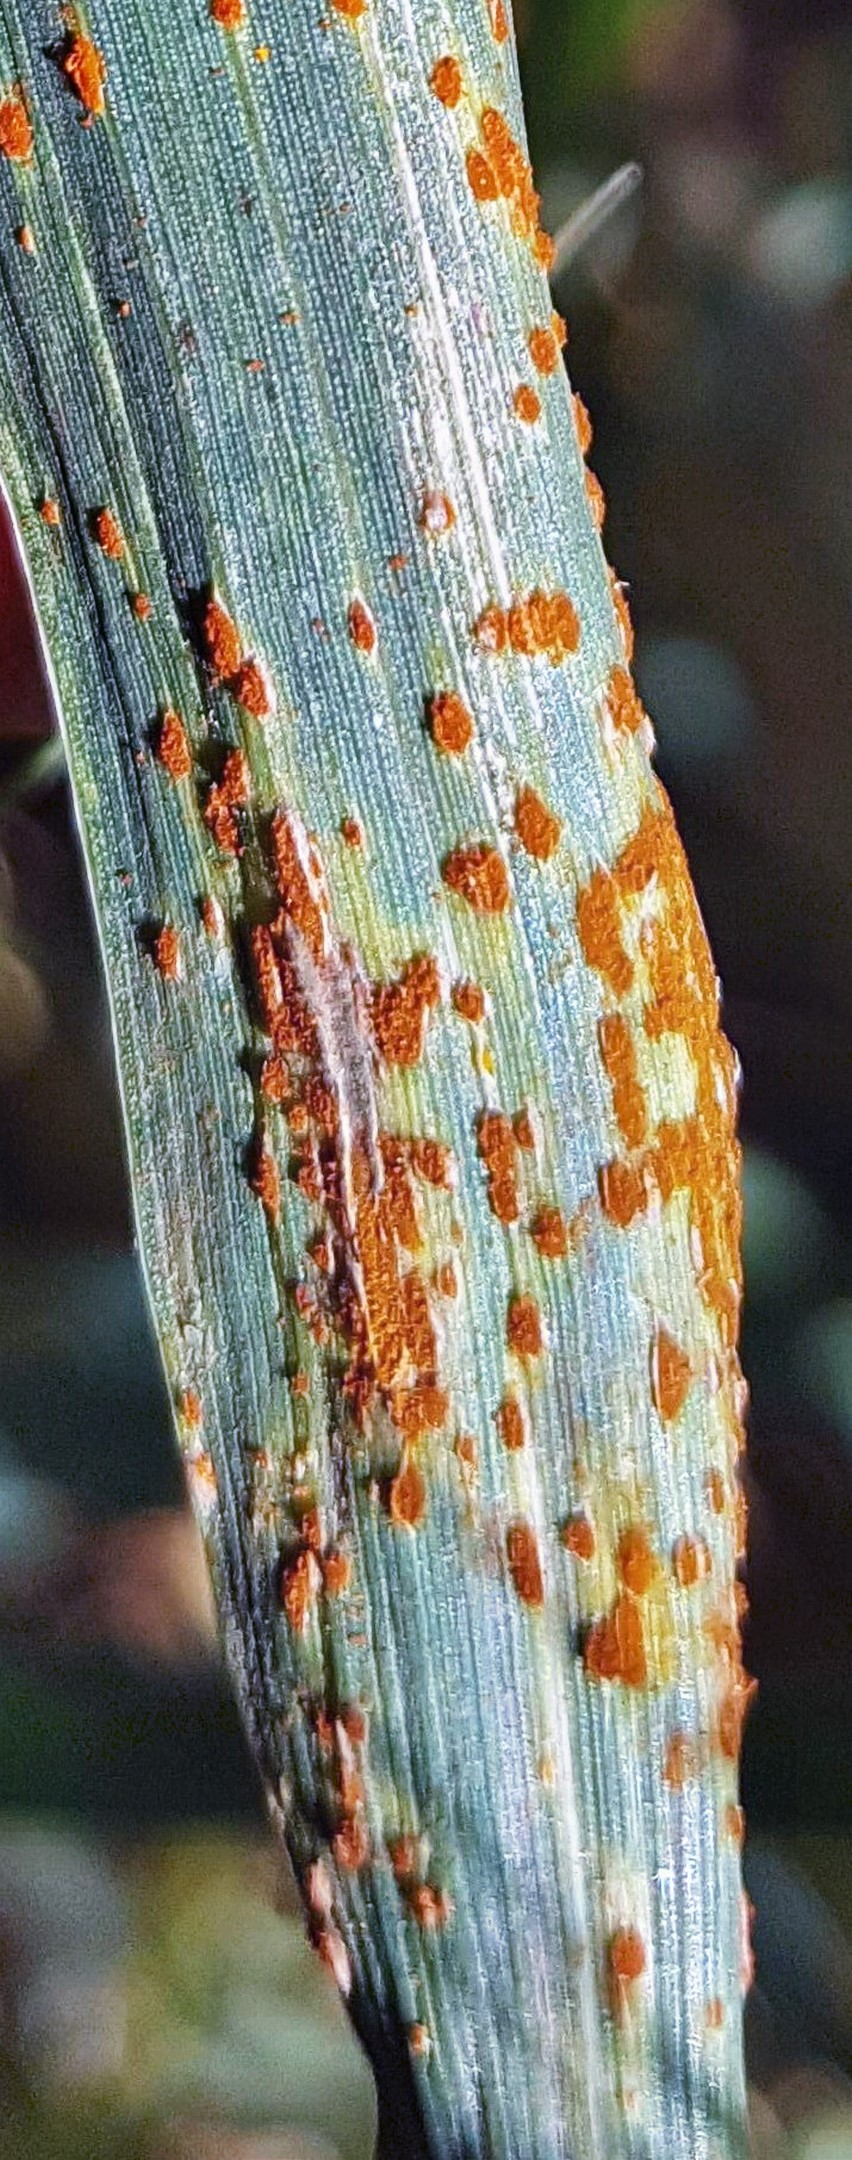Leaf Rust: (63, 419, 848, 1989)
